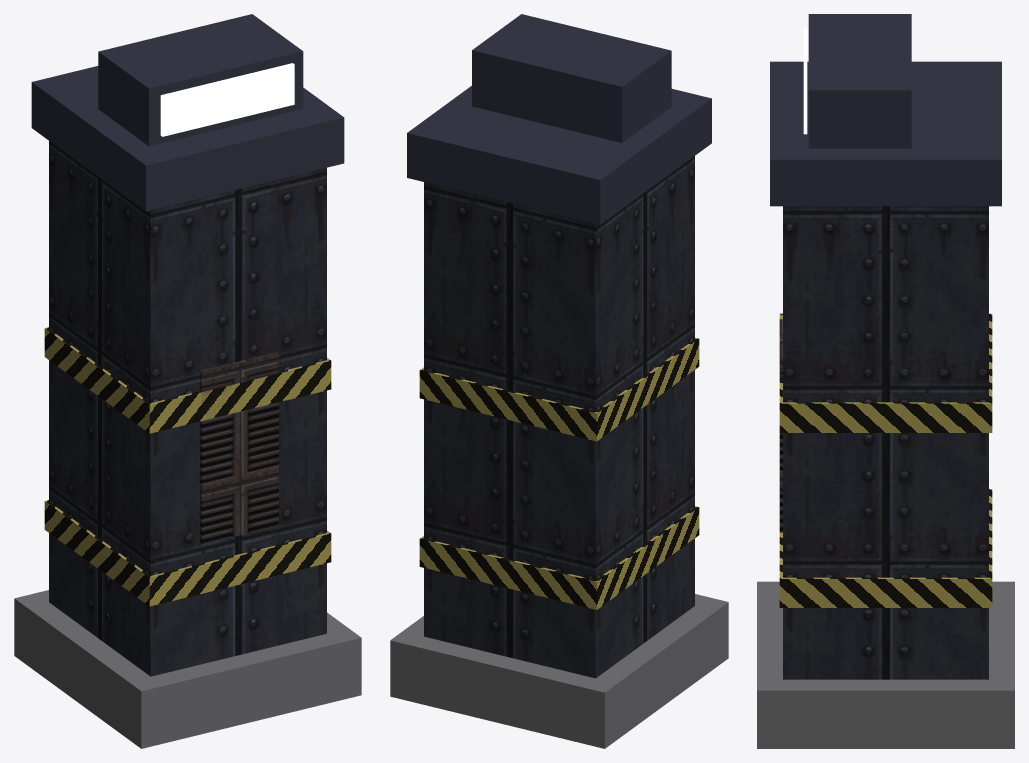
Rendered from arena_gate_post.glb.
3 views of the same model, side by side, from view 1: azimuth 30°, elevation 25°; view 2: azimuth 150°, elevation 25°; view 3: azimuth 270°, elevation 25° (orthographic). The views are drawn at different scales.
Visible parts, largest first — view 1: arena_gate_post; view 2: arena_gate_post; view 3: arena_gate_post.
Boxes of the visible parts, <box> form: arena_gate_post: <box>14,14,361,748</box>; arena_gate_post: <box>390,14,728,748</box>; arena_gate_post: <box>757,14,1014,748</box>.
Bounding box in the file's own units: 4 × 11 × 4.
Materials: 6 (3 with a texture image).
